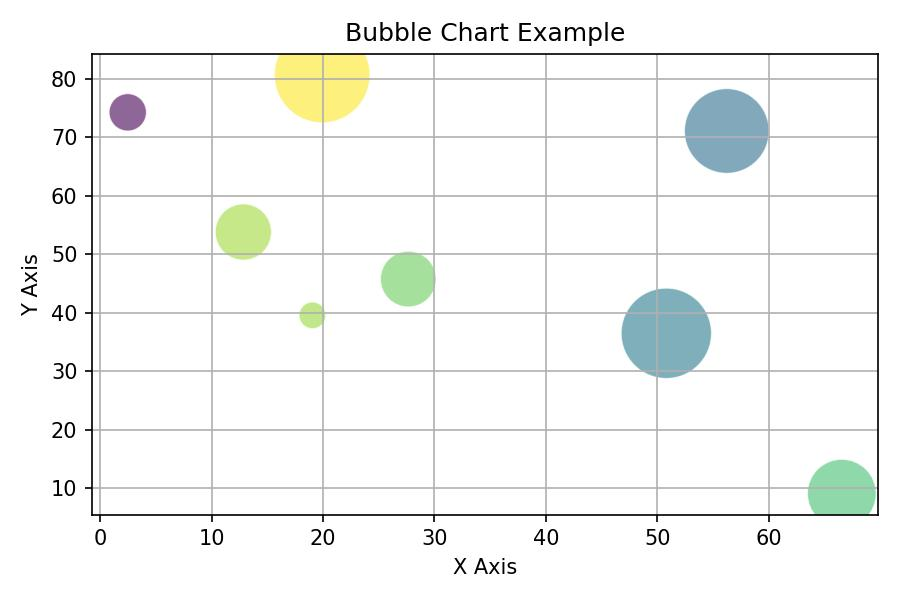axis: (74, 503, 888, 549), (46, 44, 106, 542)
circle: (624, 289, 712, 379), (685, 89, 774, 172), (274, 53, 369, 118), (809, 459, 876, 510), (215, 204, 271, 260), (380, 253, 437, 307), (109, 94, 148, 129), (298, 301, 329, 331)
